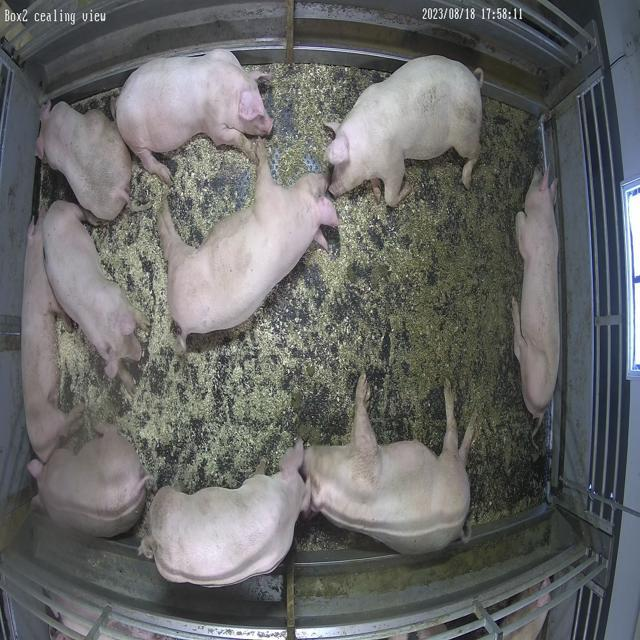Dirt: (290, 99, 546, 524)
Pig: (158, 141, 339, 352), (305, 375, 475, 554), (142, 442, 310, 588), (328, 55, 482, 206), (115, 49, 273, 182), (42, 201, 145, 388), (21, 216, 80, 462), (28, 426, 149, 538), (514, 170, 561, 418), (36, 101, 131, 220)
